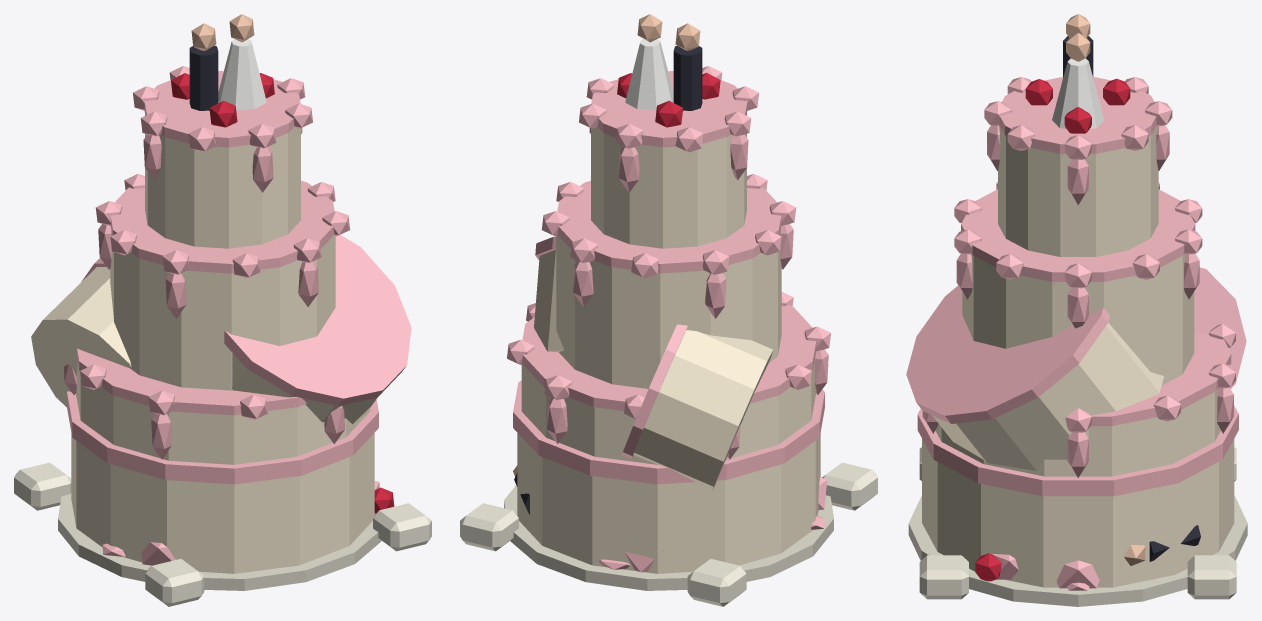
Rendered from sm_cargo_content_wedding_cake.glb.
3 renders of one model, left to right at view 1: azimuth 30°, elevation 25°; view 2: azimuth 150°, elevation 25°; view 3: azimuth 270°, elevation 25°, orthographic.
Parts seen in each view (by area): view 1: Intact, Ruined, Filler, Damage; view 2: Intact, Ruined, Filler; view 3: Intact, Ruined, Filler, Damage.
Part boxes in pixels (x1=…): Intact: x1=58, y1=14, x2=381, y2=590; Ruined: x1=31, y1=235, x2=411, y2=573; Filler: x1=14, y1=462, x2=431, y2=606; Damage: x1=102, y1=487, x2=394, y2=556; Intact: x1=504, y1=14, x2=833, y2=590; Ruined: x1=513, y1=236, x2=826, y2=573; Filler: x1=460, y1=462, x2=877, y2=606; Intact: x1=908, y1=14, x2=1247, y2=606; Ruined: x1=906, y1=267, x2=1246, y2=588; Filler: x1=919, y1=447, x2=1236, y2=599; Damage: x1=975, y1=510, x2=1234, y2=590.
Bounding box in the file's own units: 0.3866 × 0.633 × 0.3827.
